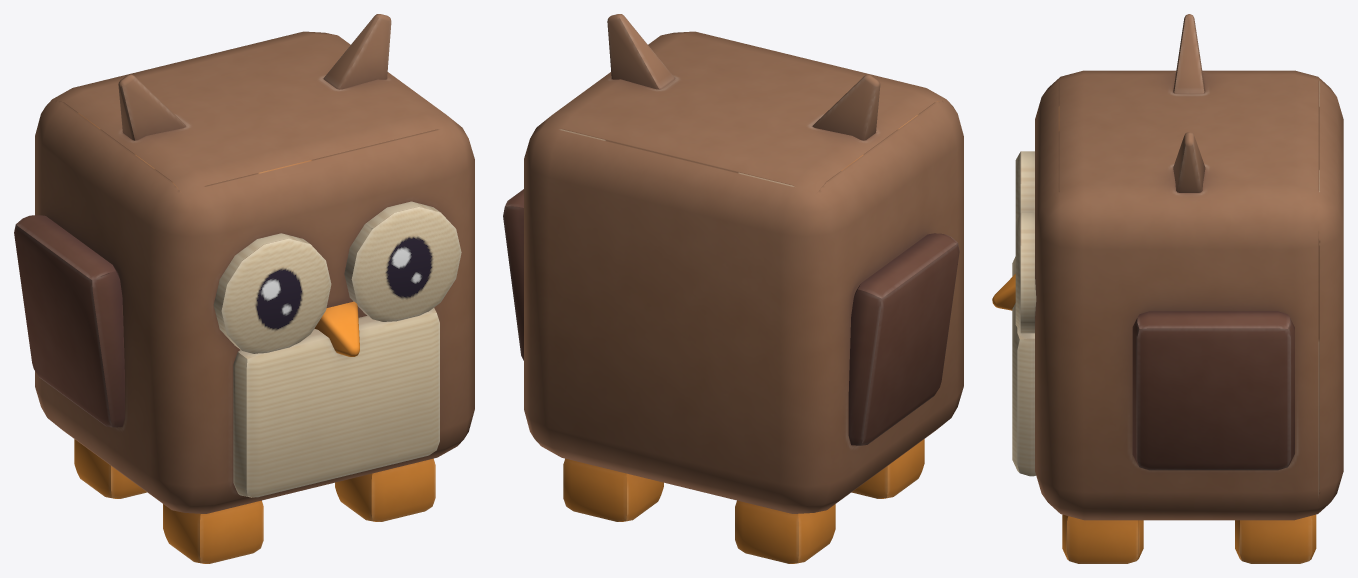
File: Owl.fbx
3 renders of one model, left to right at view 1: azimuth 30°, elevation 25°; view 2: azimuth 150°, elevation 25°; view 3: azimuth 270°, elevation 25°, orthographic. The views are drawn at different scales.
Visible parts, largest first — view 1: Owl; view 2: Owl; view 3: Owl.
Boxes of the visible parts, left/top/right/bottom form: Owl: left=14, top=14, right=474, bottom=563; Owl: left=503, top=14, right=963, bottom=563; Owl: left=992, top=14, right=1343, bottom=563.
Size of the model in its own units: 267 by 298 by 216.
Materials: 1 (1 with a texture image).
